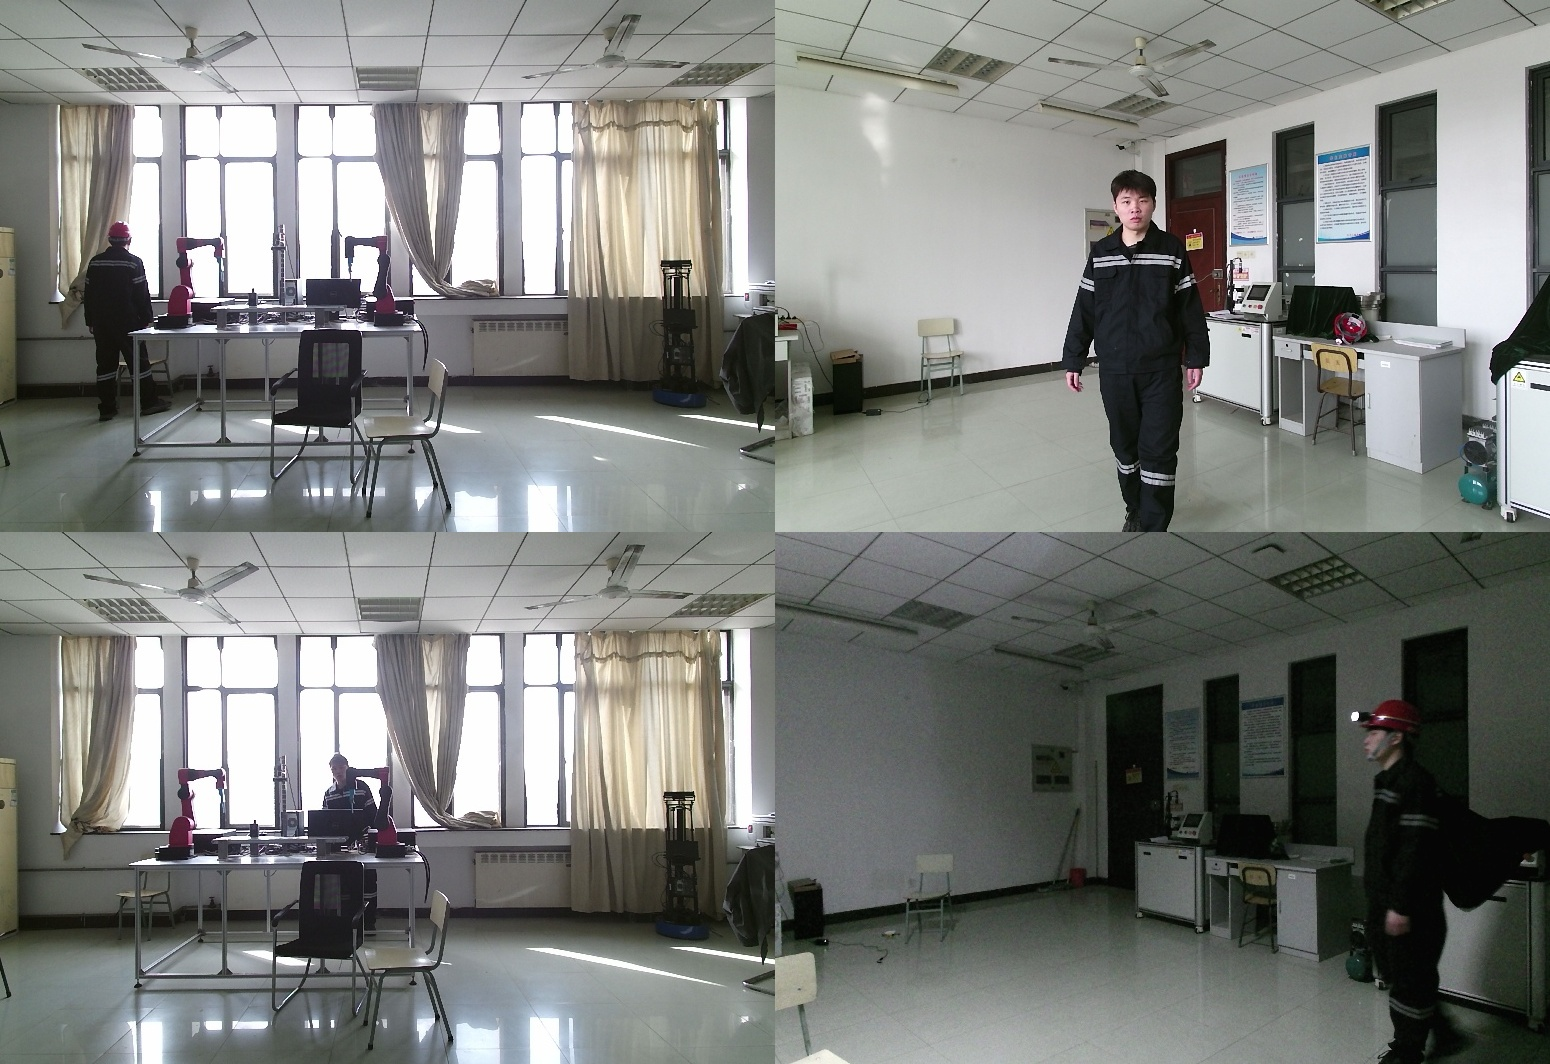person: (1067, 172, 1216, 532), (1359, 697, 1470, 1061), (74, 222, 165, 424), (315, 755, 381, 935)
